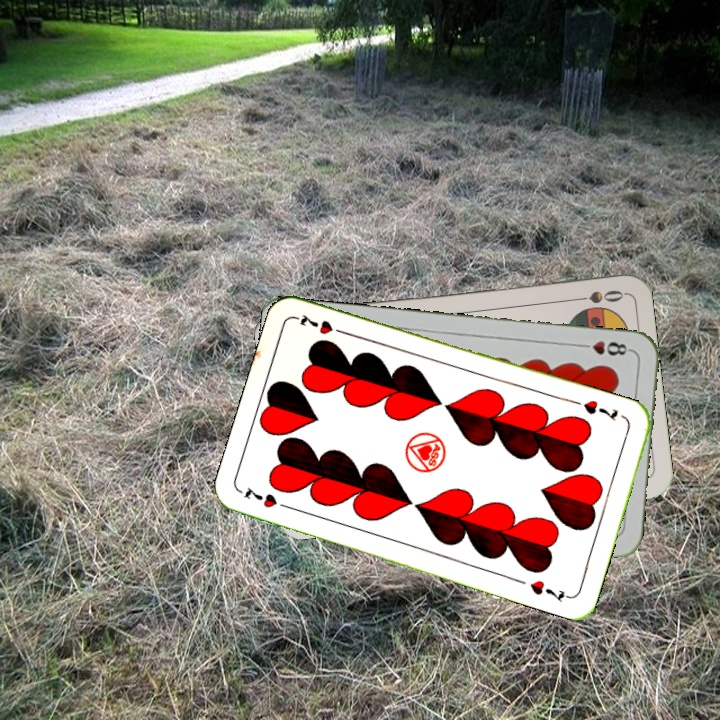H7: (237, 482, 295, 512), (579, 396, 621, 424)
H8: (575, 337, 634, 358)
SO: (567, 286, 626, 306)
